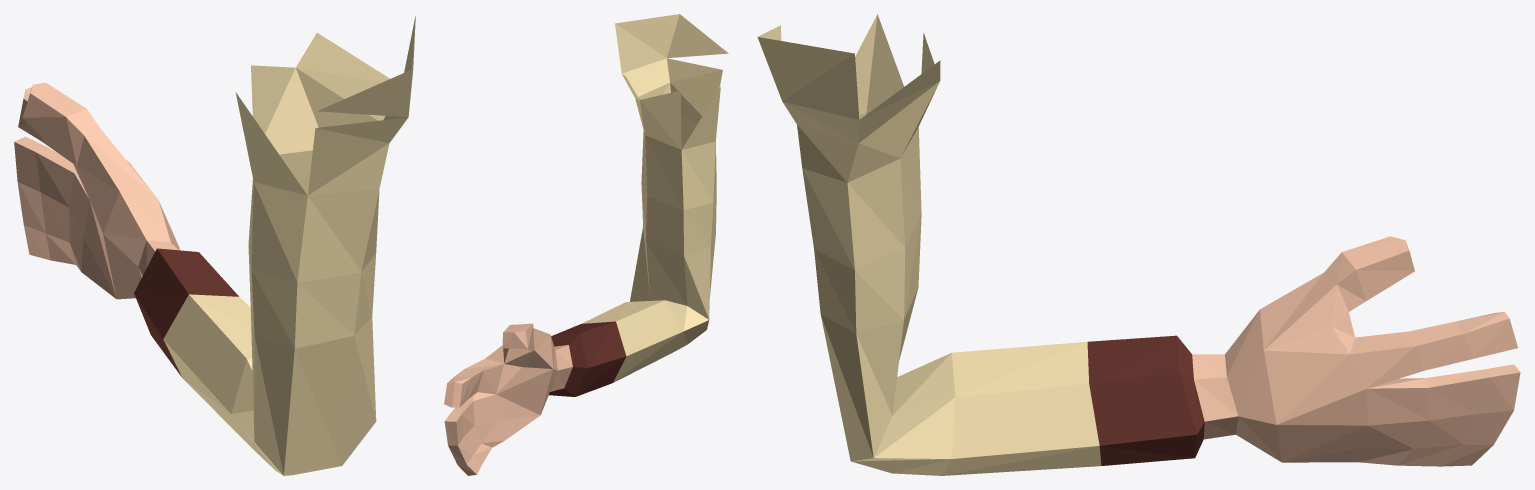
Rendered from SchoolGirl_01_ArmR_96_02_A.obj.
3 views of the same model, side by side, from view 1: azimuth 30°, elevation 25°; view 2: azimuth 150°, elevation 25°; view 3: azimuth 270°, elevation 25° (orthographic). The views are drawn at different scales.
Parts seen in each view (by area): view 1: SchoolGirl_01_ArmR_96_02_A; view 2: SchoolGirl_01_ArmR_96_02_A; view 3: SchoolGirl_01_ArmR_96_02_A.
Part boxes in pixels (x1,y1,x2,y2): SchoolGirl_01_ArmR_96_02_A: (14,16,415,475); SchoolGirl_01_ArmR_96_02_A: (444,14,728,475); SchoolGirl_01_ArmR_96_02_A: (757,14,1520,475).
Size of the model in its own units: 0.1566 by 0.3998 by 0.5919.
1 material, 1 textured.
